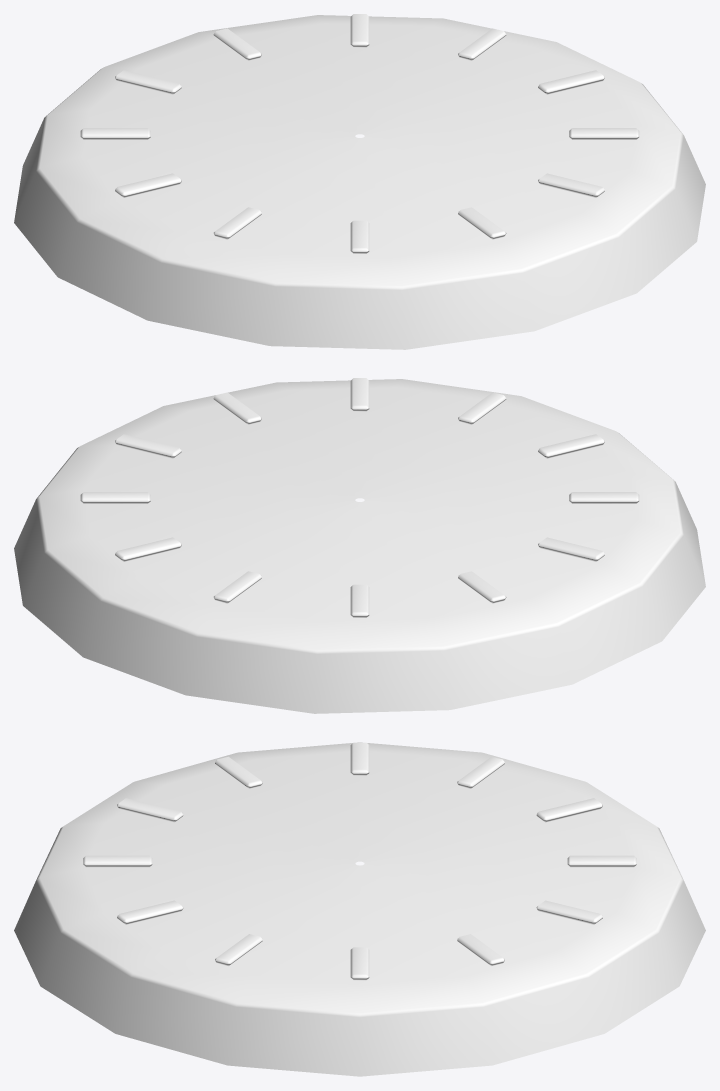
File: entry_stone.glb
The picture shows the model from 3 angles, top to bottom: view 1: azimuth 30°, elevation 25°; view 2: azimuth 150°, elevation 25°; view 3: azimuth 270°, elevation 25°; orthographic projection.
Visible parts, largest first — view 1: EntryStone; view 2: EntryStone; view 3: EntryStone.
Boxes of the visible parts, box(x1,y1,x2,y2) form: EntryStone: box(14, 14, 705, 349); EntryStone: box(14, 378, 705, 713); EntryStone: box(14, 742, 705, 1076).
Bounding box in the file's own units: 3 × 0.345 × 3.
1 material, 1 textured.
